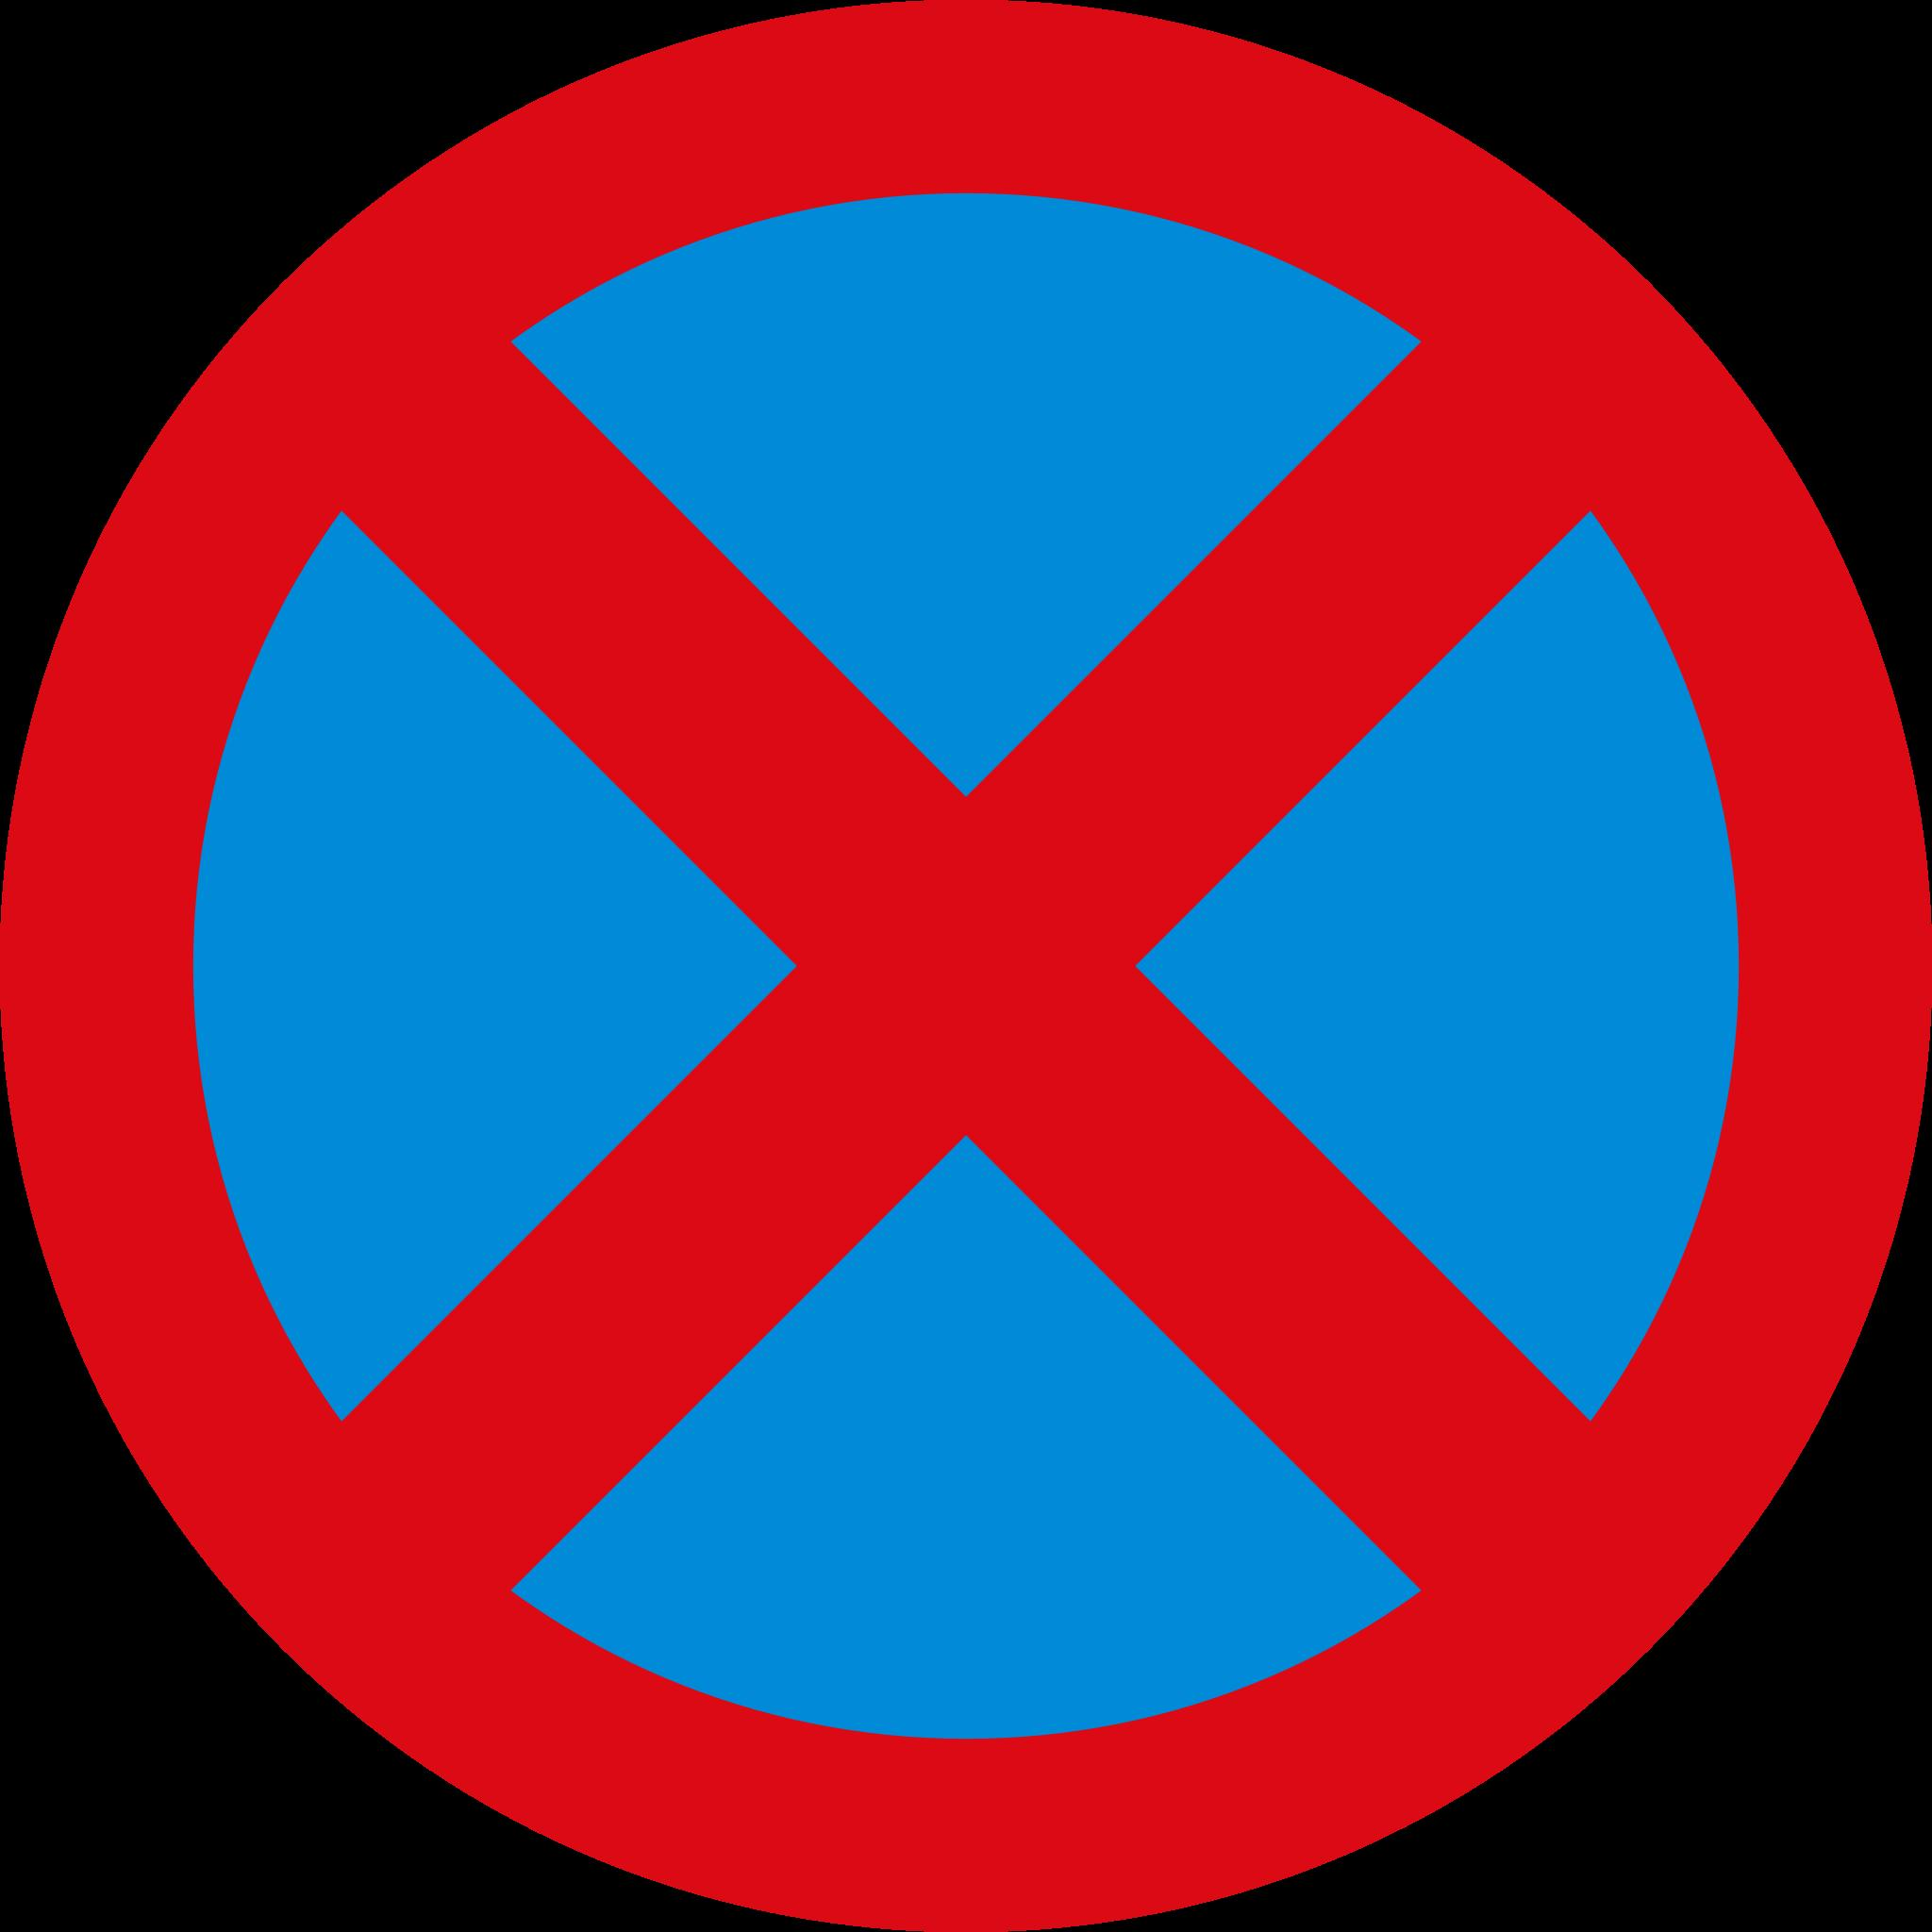No Stopping: (87, 119, 1863, 1868)
